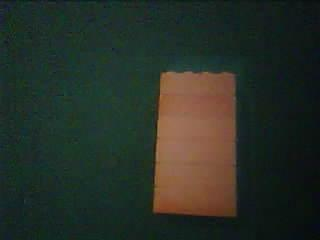lego: (151, 69, 237, 217)
